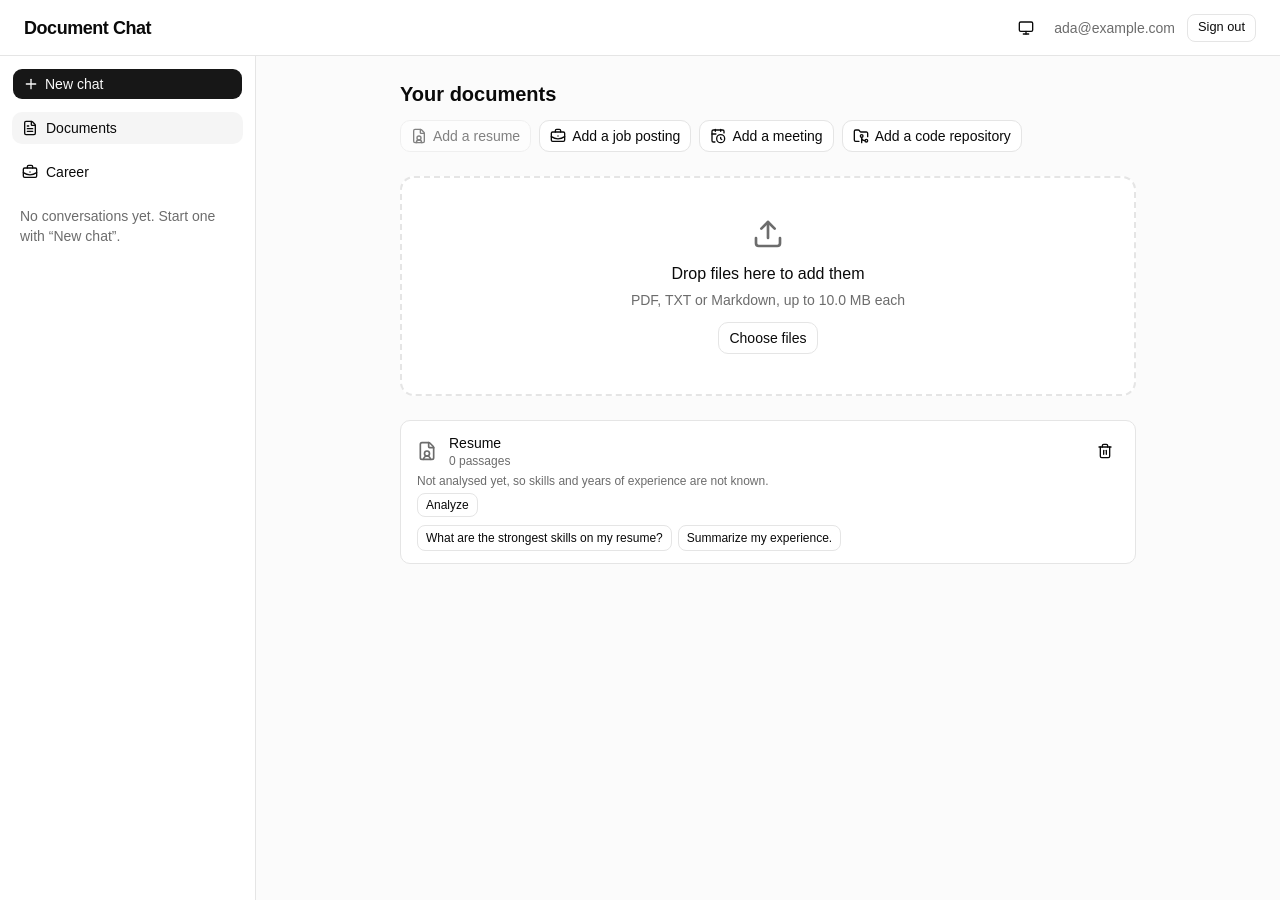
Test: adding a resume › when the user already has a resume › offers it again once the resume is deleted
What coordinates should you click on to do the following:
click the button named "Delete Resume"
I would click on:
 (1105, 451)
Its box is [1091,437,1119,465].
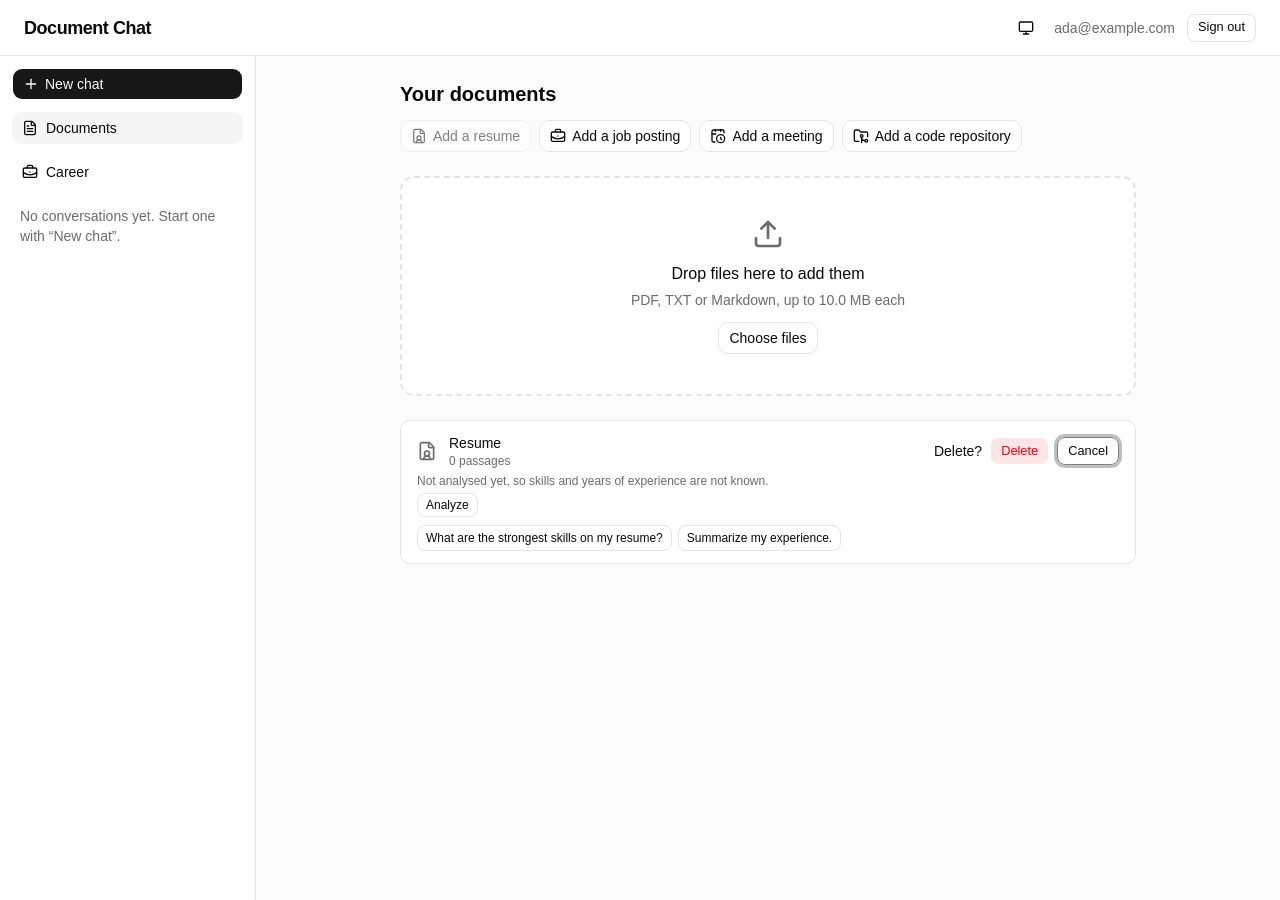
What coordinates should you click on to do the following:
click the button "Delete"
I would click on:
 (1020, 451)
Its box is [990,437,1049,465].
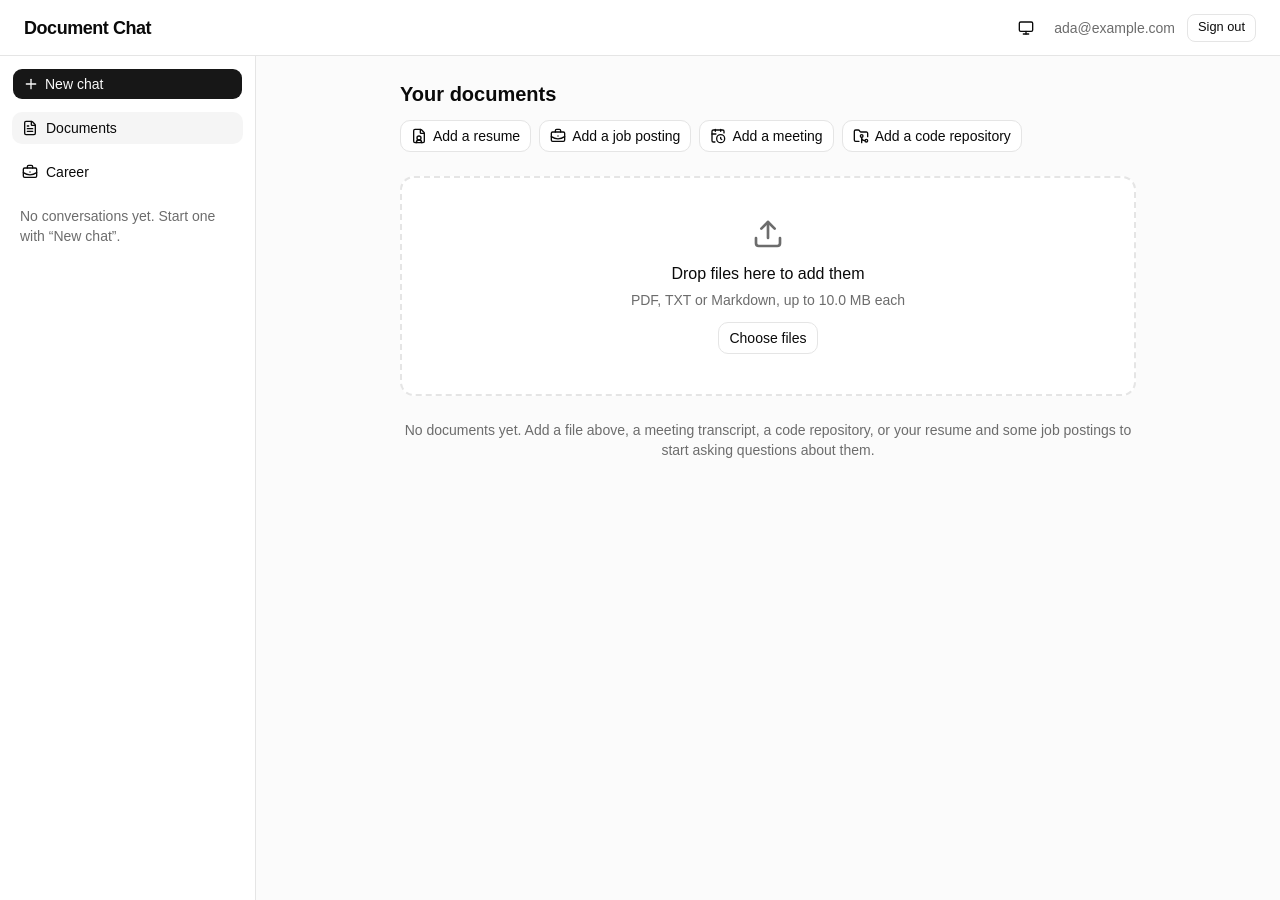
Result: the button "Add a resume" is enabled at [400,120,531,152]
